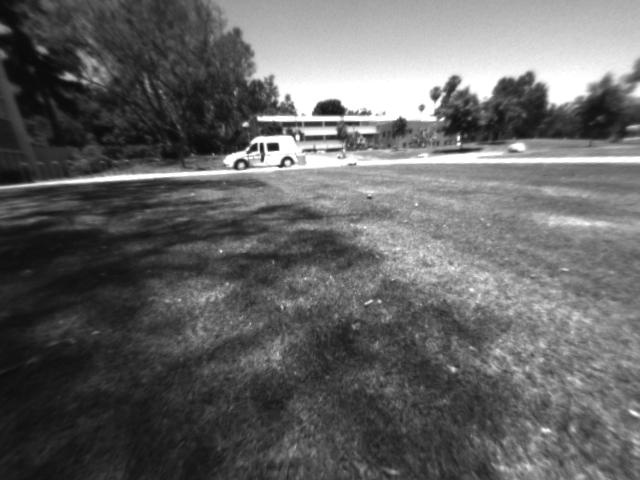dogtoy: (358, 191, 383, 205)
